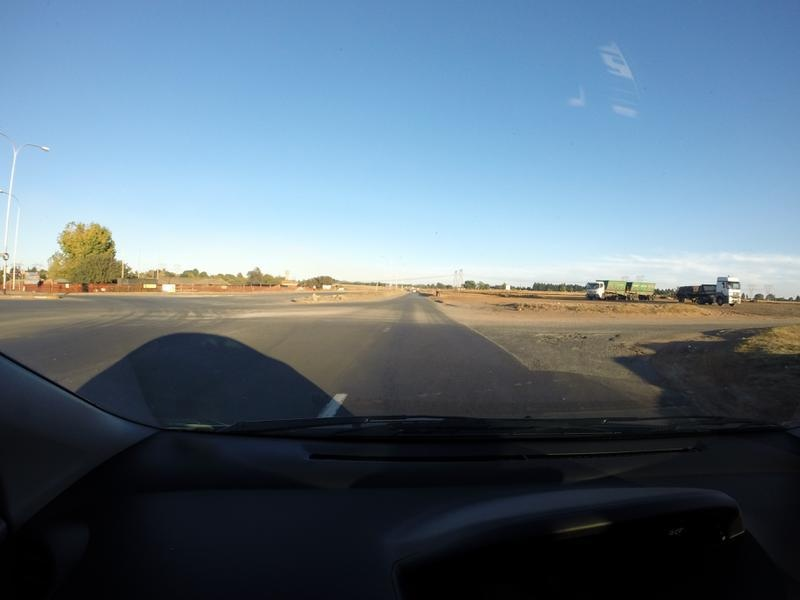pothole: (538, 332, 586, 340), (606, 331, 621, 342)
